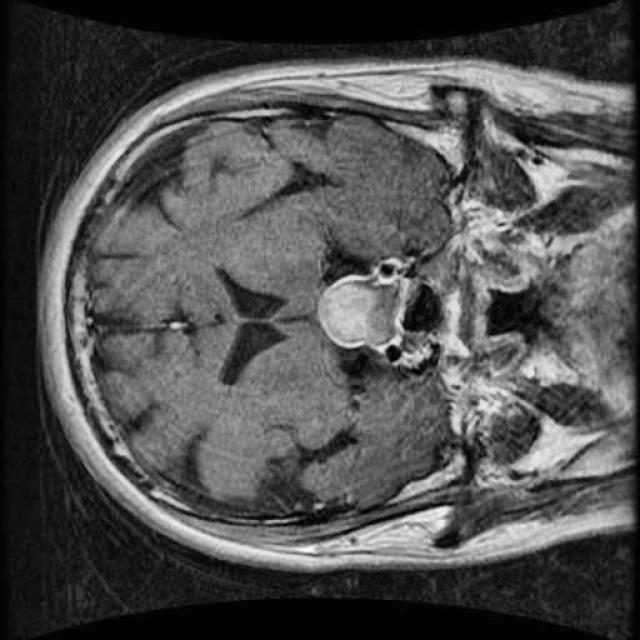Tumor: (311, 264, 415, 359)
